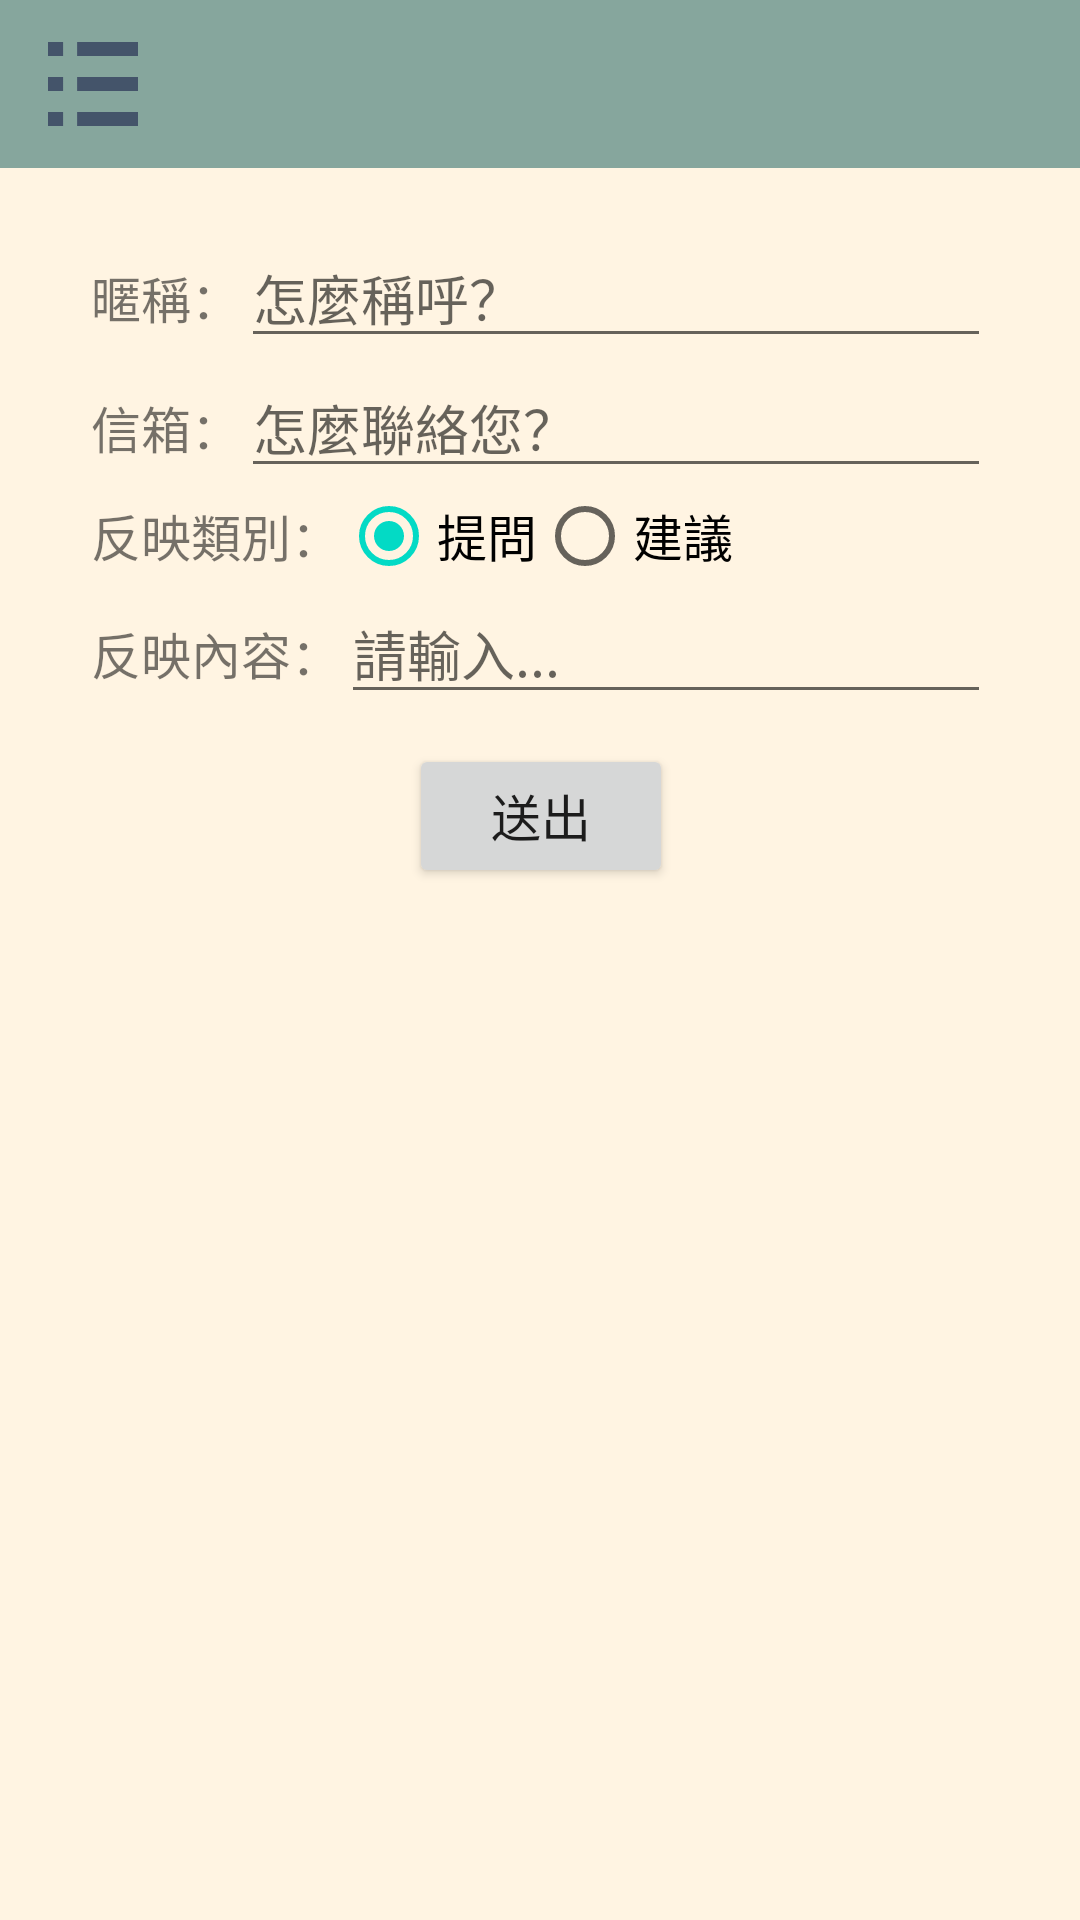

Screen size 1080*1920. Icon name, then its box in pixels as box=[x1, y1, x2, y2]:
list pic: box=[48, 42, 138, 126]
